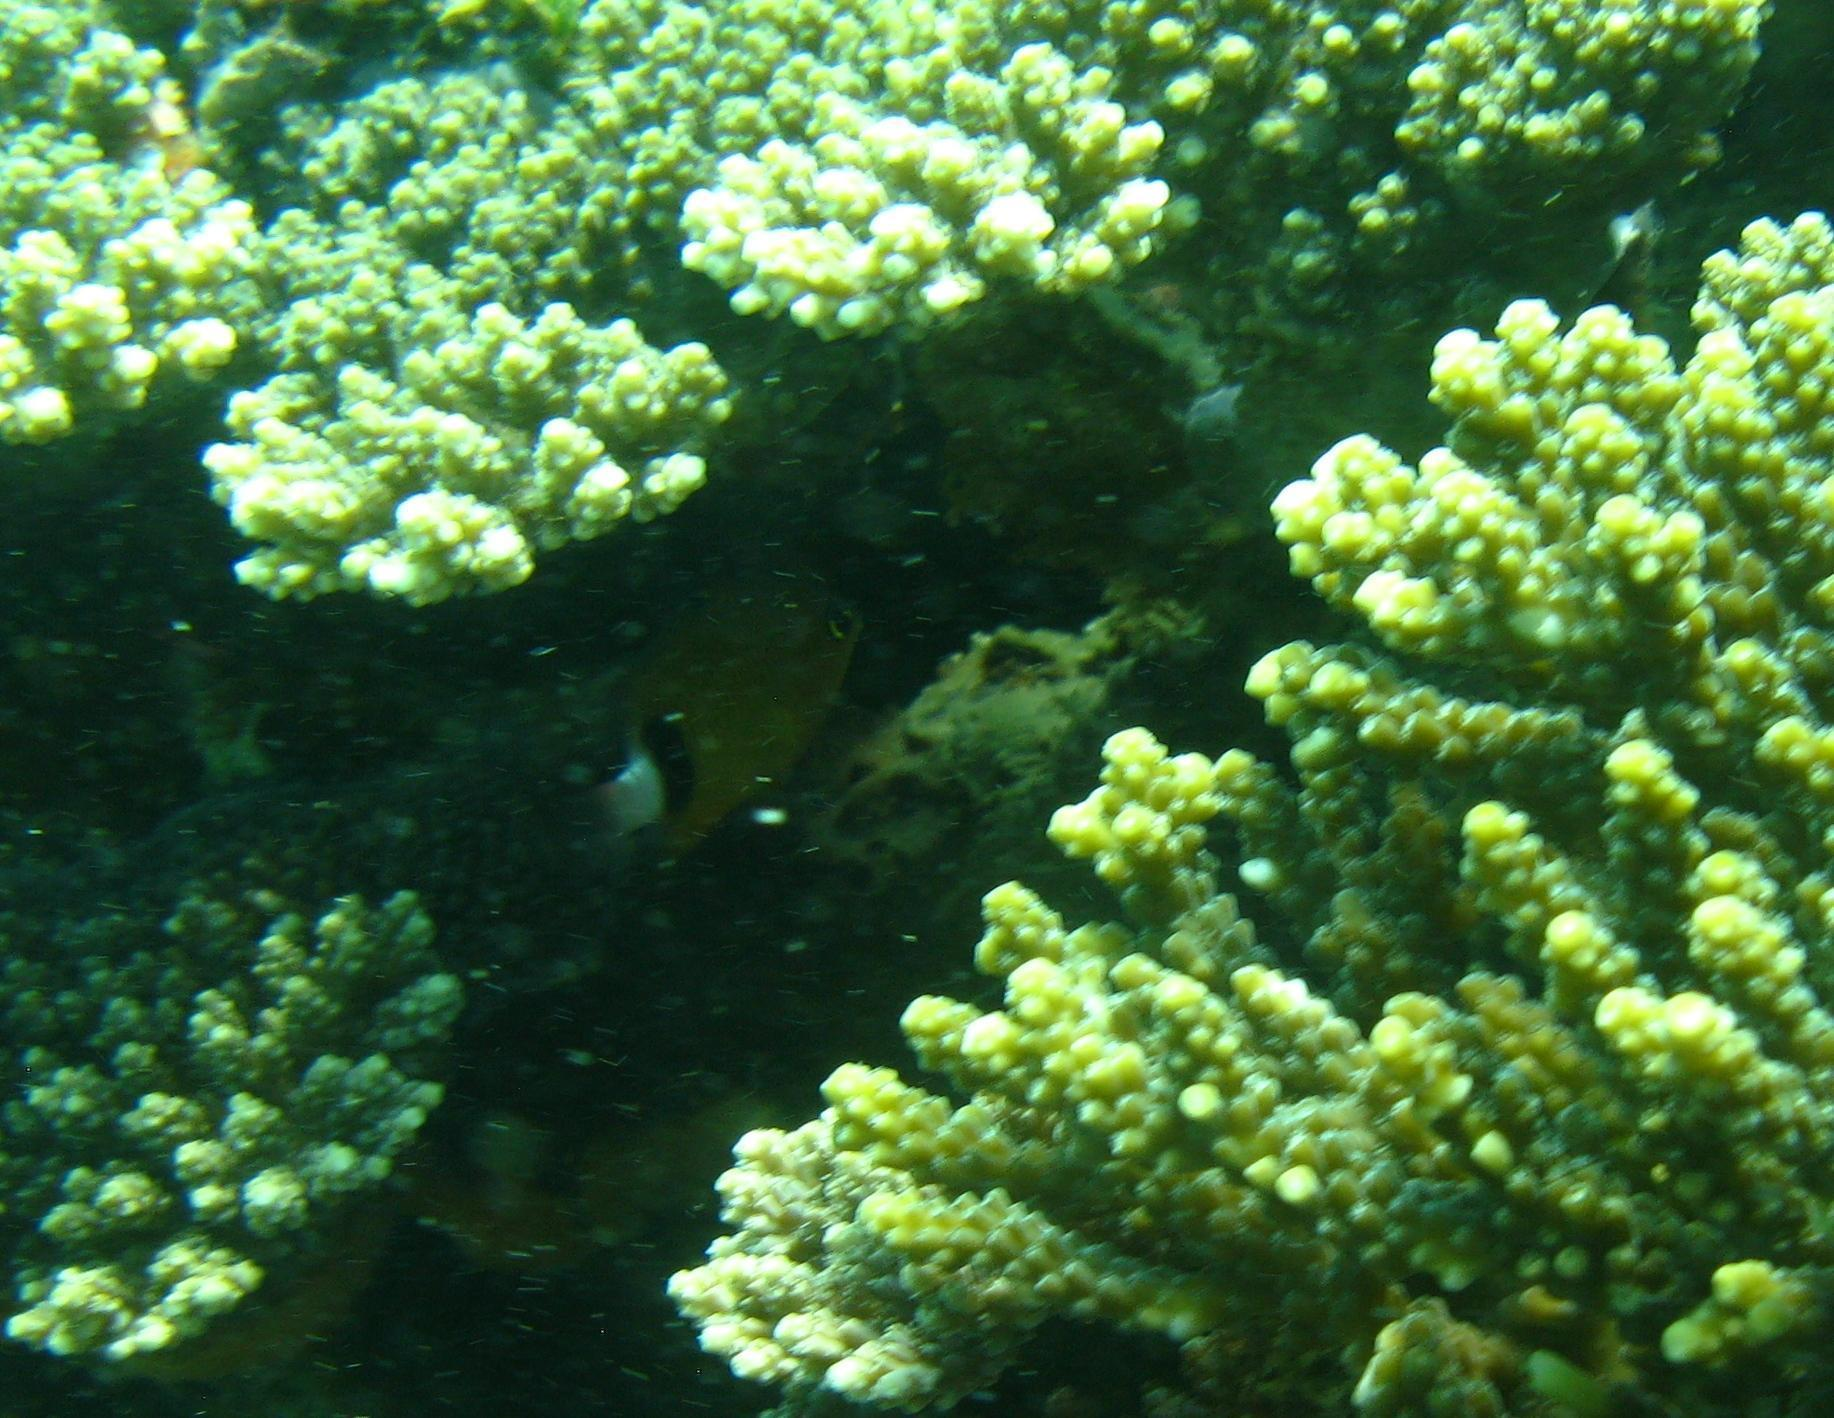Fish: (499, 518, 972, 899)
